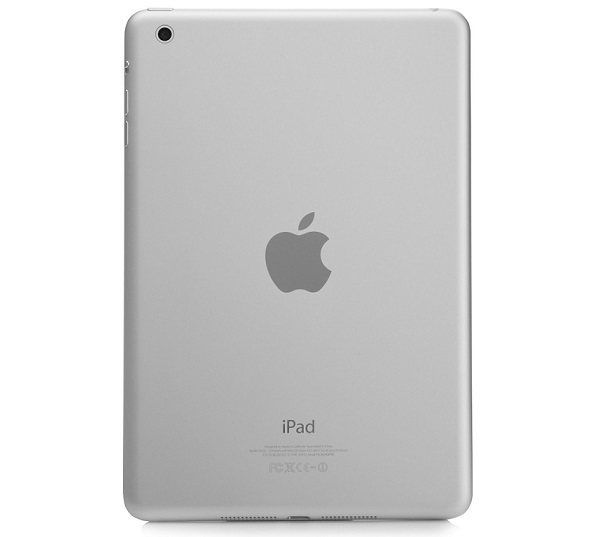Apple: (249, 201, 357, 303), (267, 405, 335, 441)
